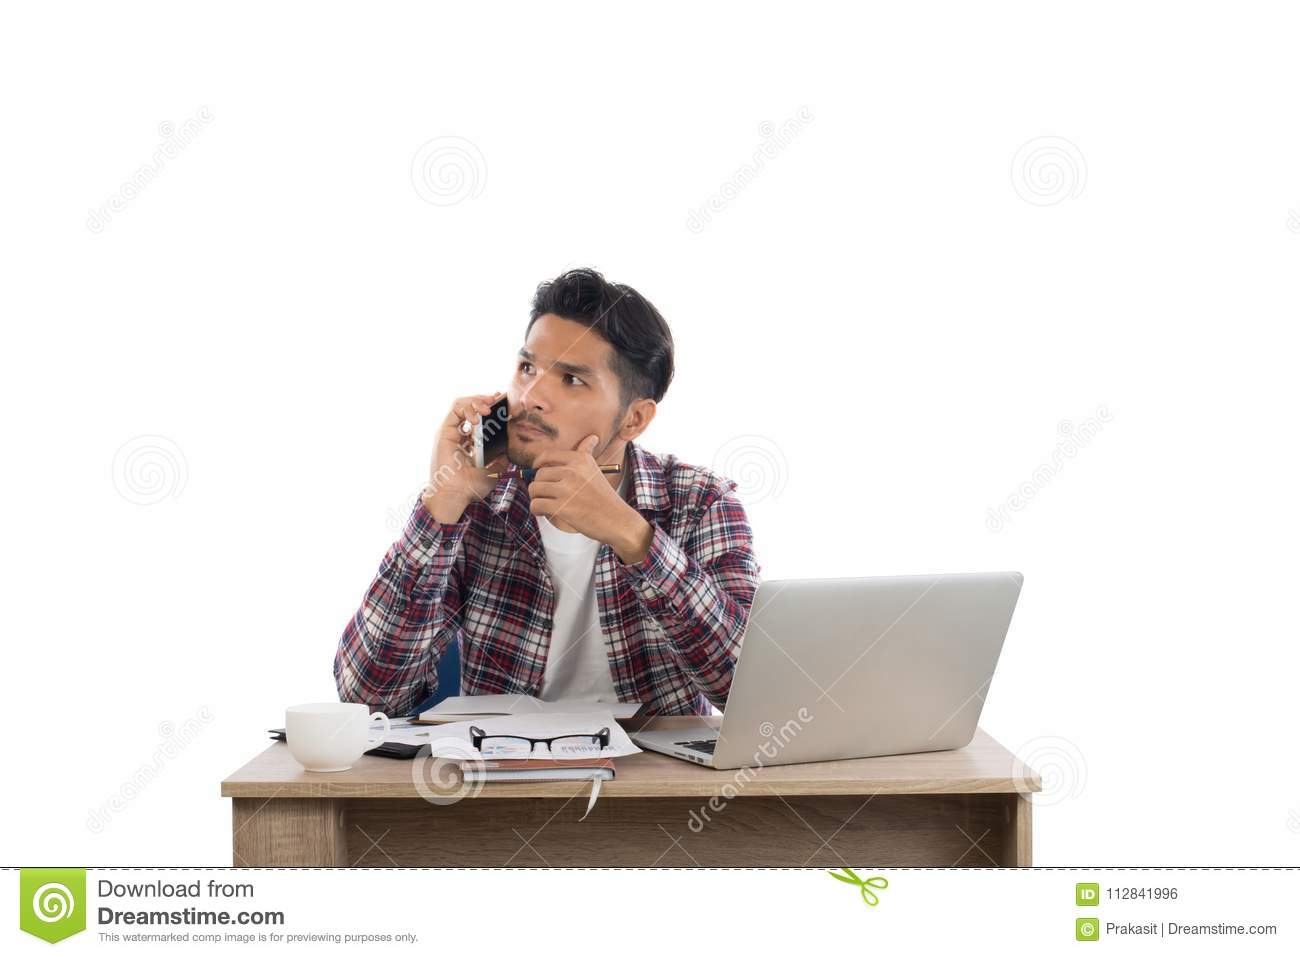phone: (467, 385, 516, 471)
talk: (431, 339, 610, 501)
